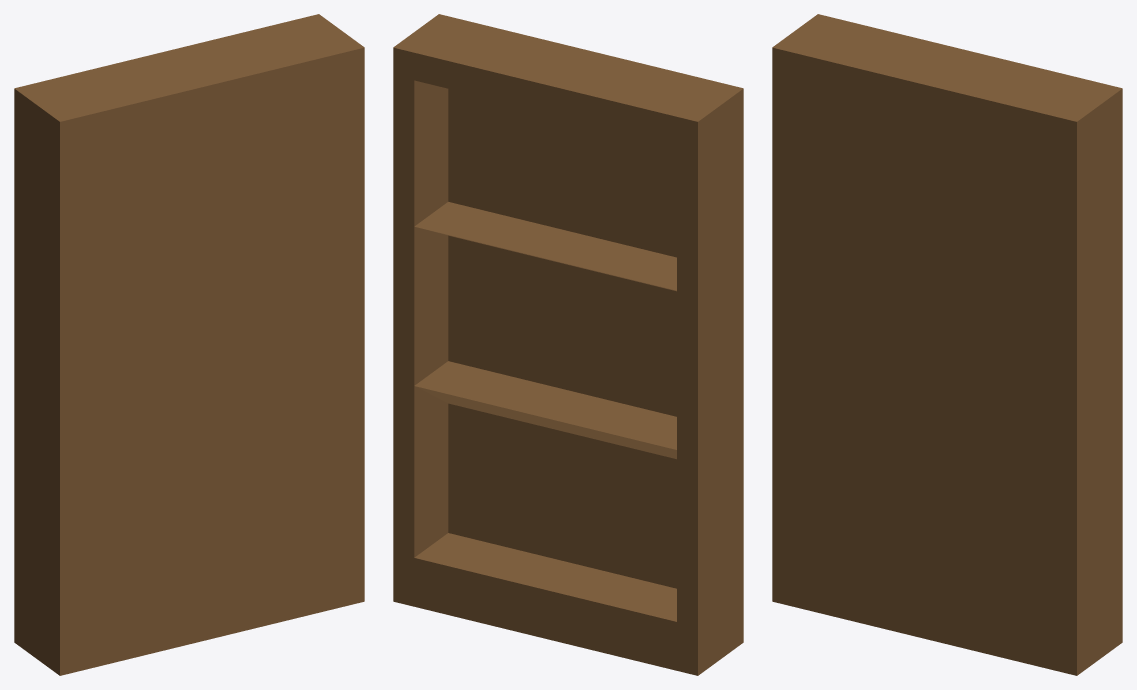
Rendered from shelf.fbx.
3 views of the same model, side by side, from view 1: azimuth 30°, elevation 25°; view 2: azimuth 150°, elevation 25°; view 3: azimuth 330°, elevation 25° (orthographic).
Parts seen in each view (by area): view 1: Cube; view 2: Cube; view 3: Cube.
Part boxes in pixels (x1,y1,x2,y2): Cube: (14,14,364,675); Cube: (393,14,743,675); Cube: (772,14,1122,675).
Size of the model in its own units: 375 by 97.67 by 651.
